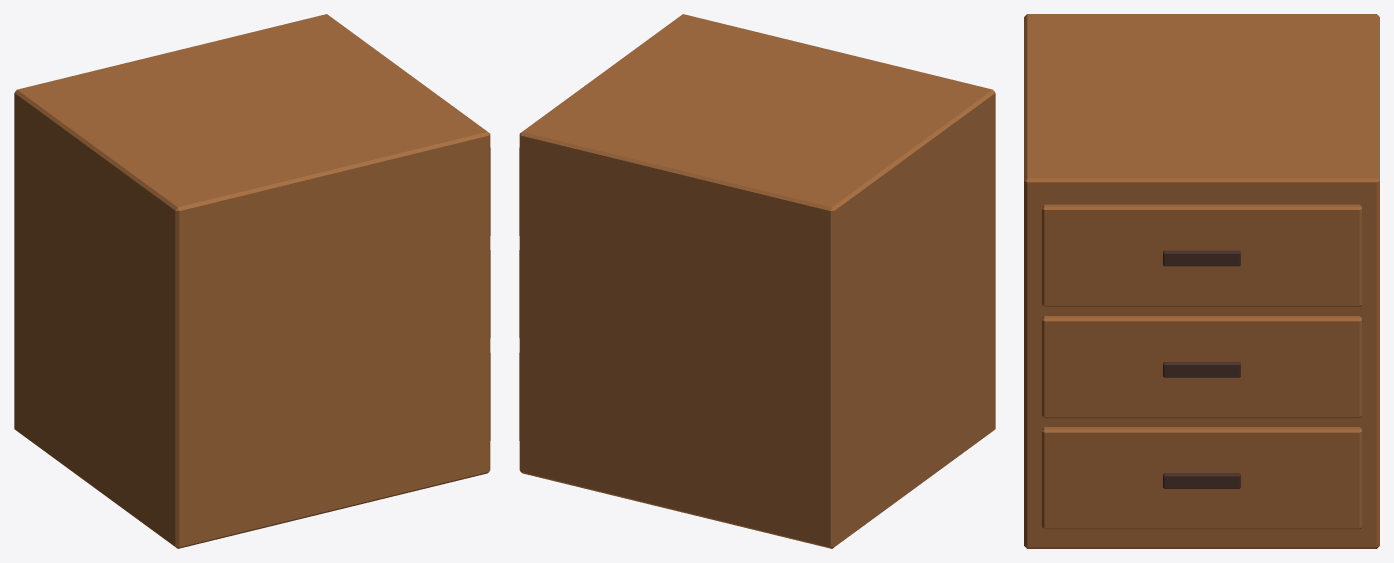
Rendered from commode_couloir.glb.
3 renders of one model, left to right at view 1: azimuth 30°, elevation 25°; view 2: azimuth 150°, elevation 25°; view 3: azimuth 270°, elevation 25°, orthographic. The views are drawn at different scales.
Parts seen in each view (by area): view 1: commode_couloir; view 2: commode_couloir; view 3: commode_couloir.
Boxes of the visible parts, <box> form: commode_couloir: <box>14,14,490,548</box>; commode_couloir: <box>519,14,995,548</box>; commode_couloir: <box>1024,14,1379,548</box>.
Bounding box in the file's own units: 1.15 × 1.15 × 1.
Materials: 1 (1 with a texture image).
